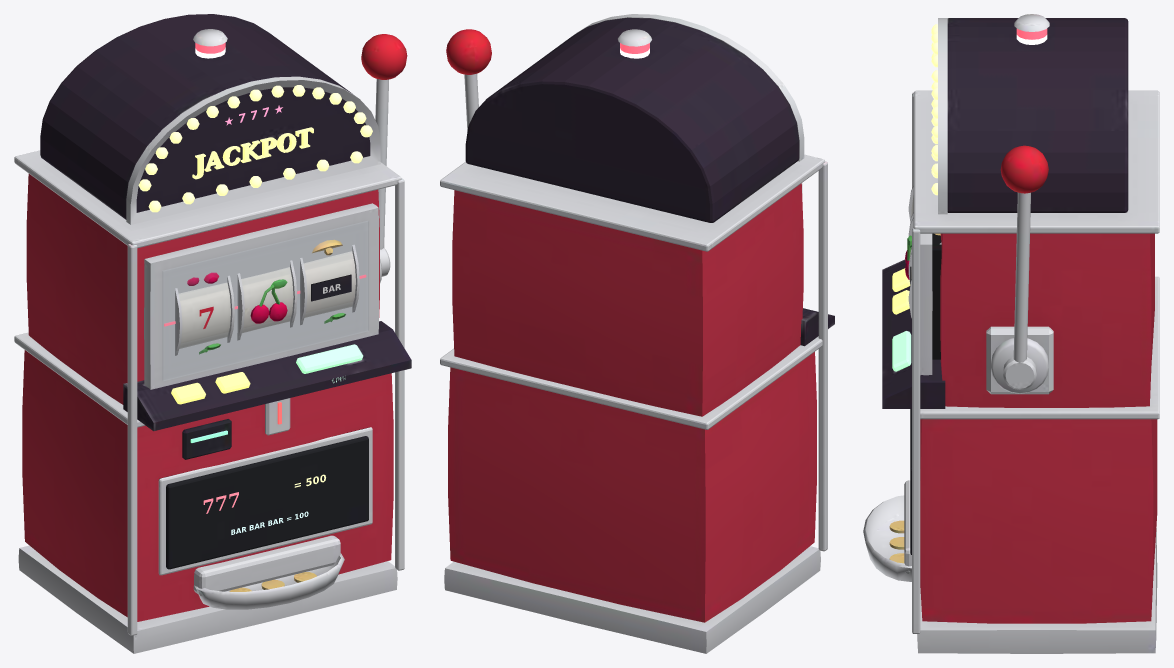
Rendered from slot_machine.glb.
3 renders of one model, left to right at view 1: azimuth 30°, elevation 25°; view 2: azimuth 150°, elevation 25°; view 3: azimuth 270°, elevation 25°, orthographic. The views are drawn at different scales.
Parts seen in each view (by area): view 1: body, mesh_reel_3, mesh_reel_1, mesh_reel_2, mesh_lever, marquee; view 2: body, mesh_lever; view 3: body, mesh_lever, marquee.
Boxes of the visible parts, x1,y1,x2,y2 form: body: (14,14,411,653); mesh_reel_3: (300,239,359,325); mesh_reel_1: (175,272,234,355); mesh_reel_2: (237,260,297,340); mesh_lever: (361,34,407,276); marquee: (138,85,372,212); body: (440,14,834,653); mesh_lever: (446,29,491,131); body: (863,14,1159,653); mesh_lever: (1000,145,1048,389); marquee: (931,24,937,195).
Size of the model in its own units: 1.63 by 2.61 by 1.23.
16 materials, 1 textured.
